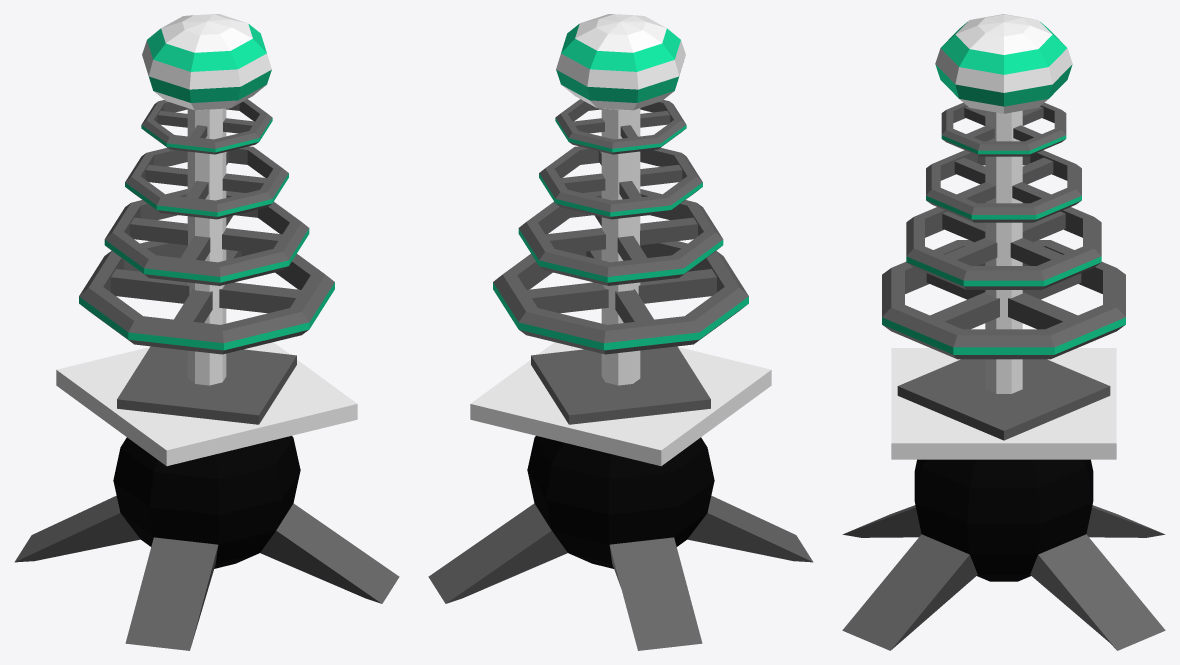
Rendered from TeslaCoil.fbx.
The picture shows the model from 3 angles, left to right: view 1: azimuth 30°, elevation 25°; view 2: azimuth 150°, elevation 25°; view 3: azimuth 270°, elevation 25°; orthographic projection. The views are drawn at different scales.
Visible parts, largest first — view 1: TeslaCoil; view 2: TeslaCoil; view 3: TeslaCoil.
Boxes of the visible parts, x1=… form: TeslaCoil: x1=14, y1=14, x2=399, y2=650; TeslaCoil: x1=428, y1=14, x2=813, y2=650; TeslaCoil: x1=842, y1=14, x2=1165, y2=650.
Size of the model in its own units: 245 by 245 by 468.
